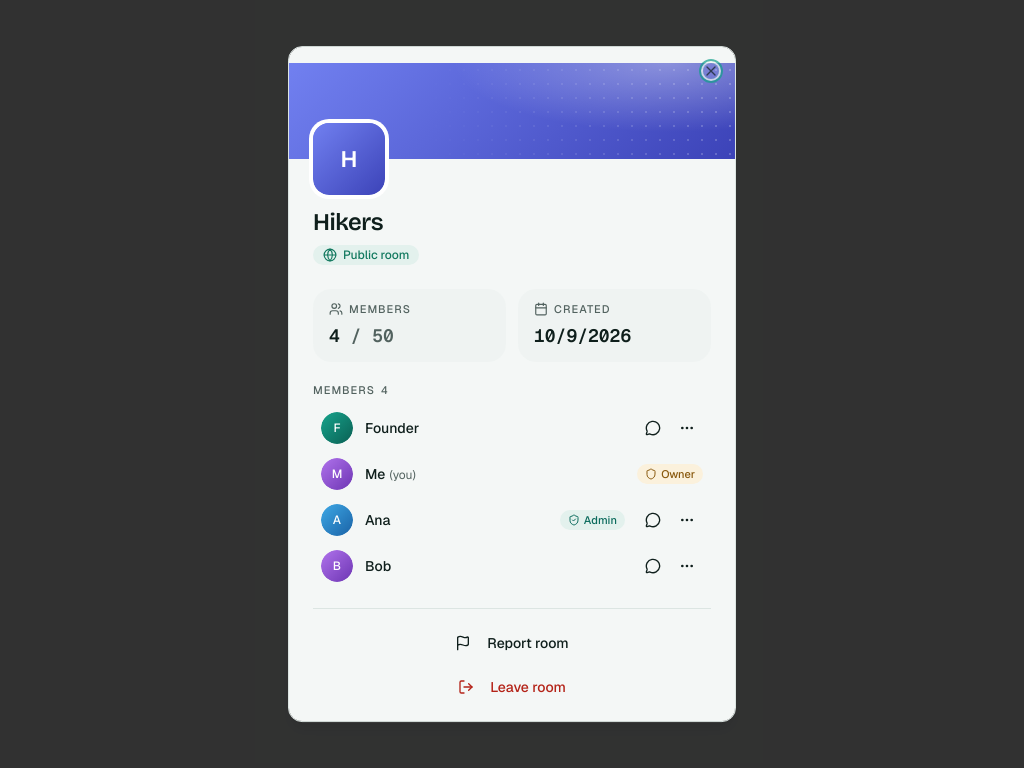
it: RoomPanel safety › memberRow_alreadyBlocked_offersUnblock
Click the button named "More actions for Bob" at (687, 566), box x1=671 y1=550 x2=703 y2=582
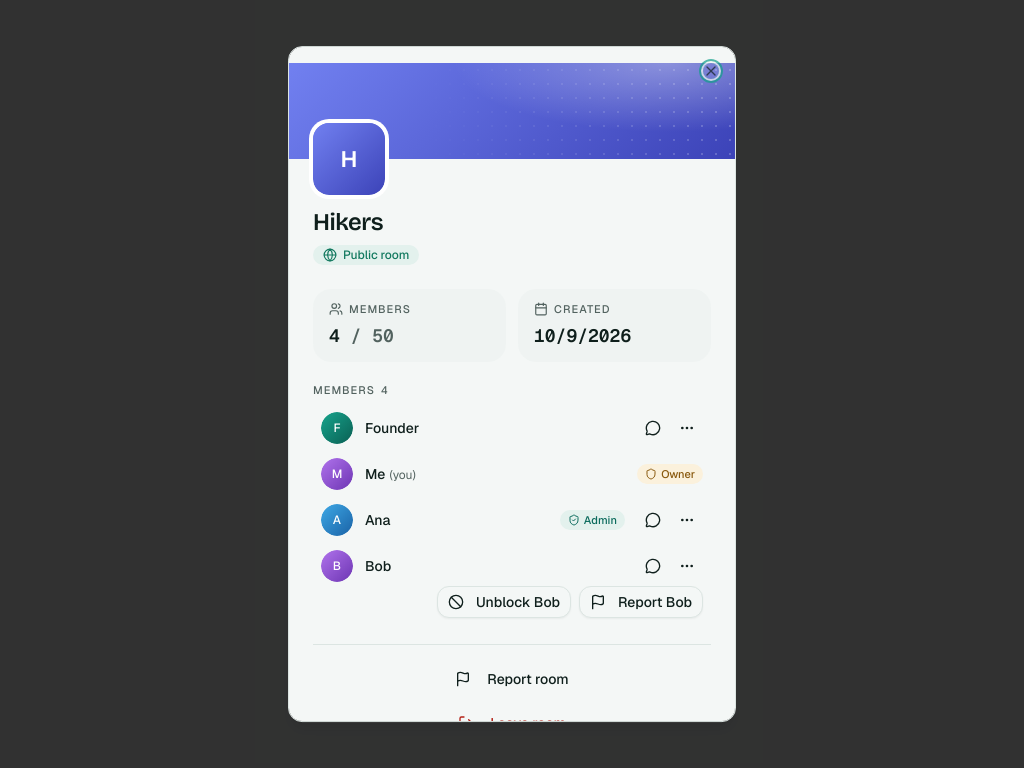
Check: the button "Unblock Bob" is shown, box x1=437 y1=586 x2=571 y2=618
